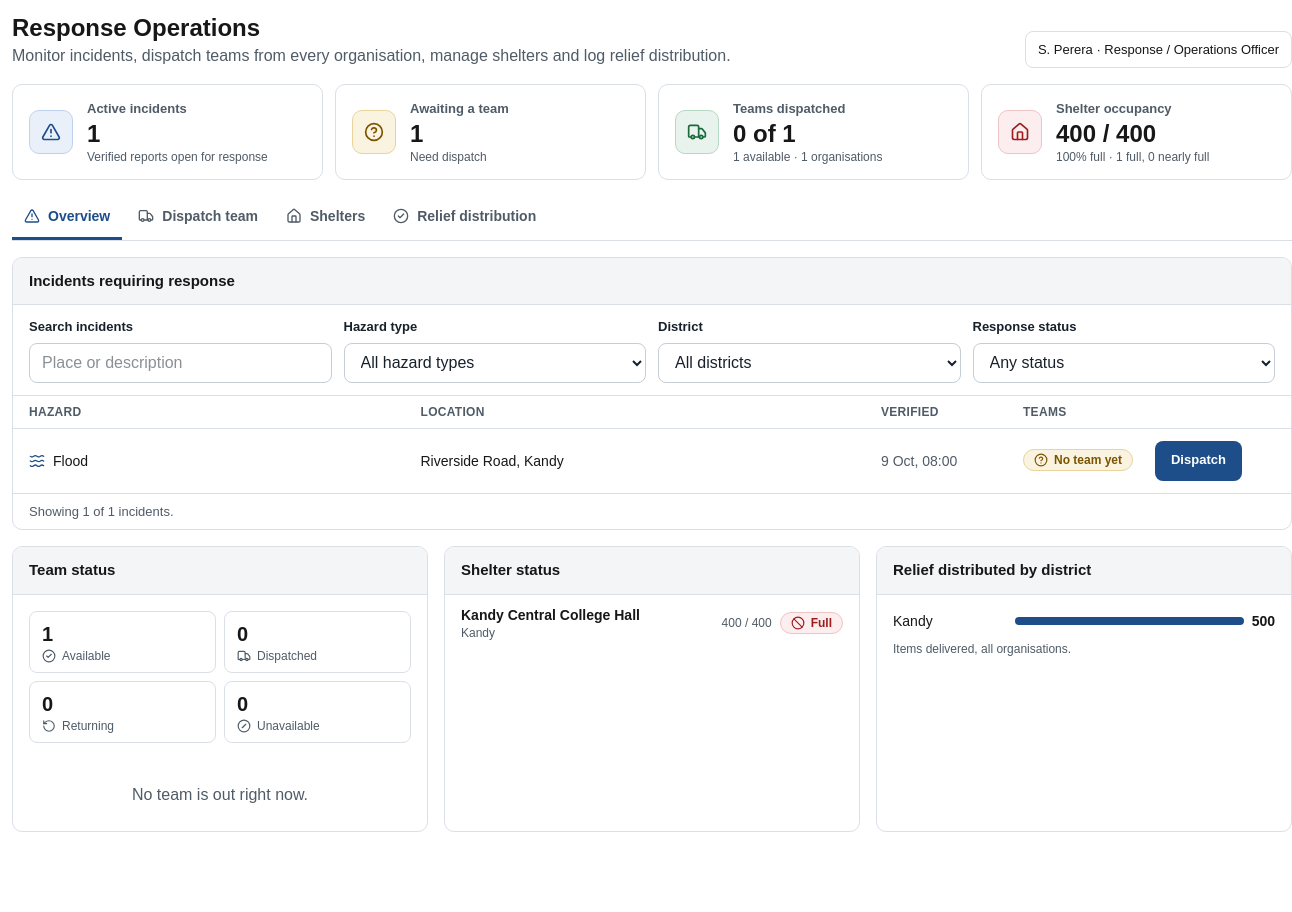
Test: Shelters tab › blocks evacuees being sent to a full shelter before any request
The width and height of the screenshot is (1292, 912).
Check: the text "Active incidents" is shown, box left=87, top=101, right=187, bottom=116
Click the tab "Shelters" at (326,218), box left=274, top=196, right=377, bottom=240
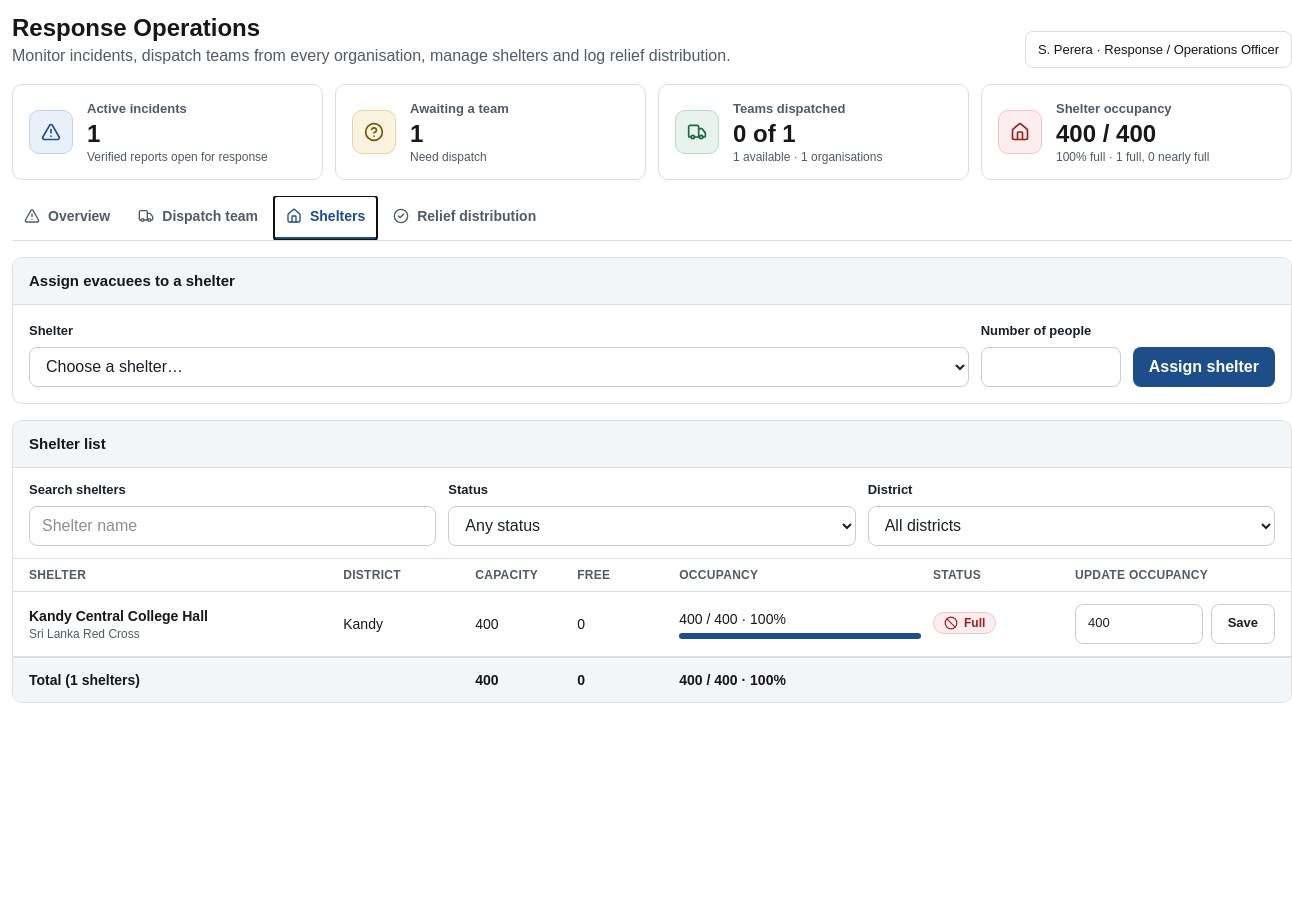
Select "Kandy Central College Hall — 0 places left" in the dropdown labelled "Shelter" at (499,366), box left=29, top=346, right=969, bottom=386
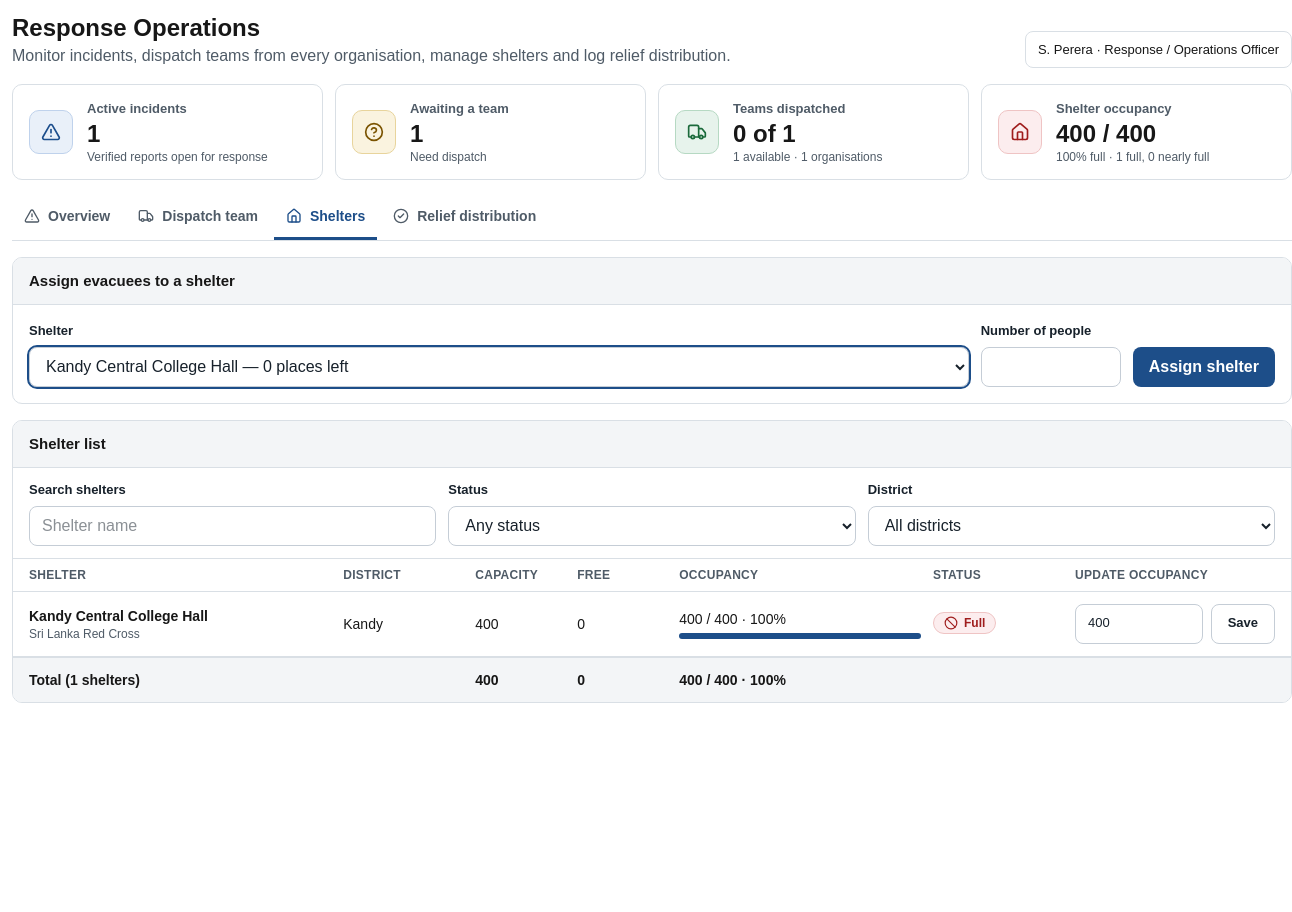
Type "1" into the number field labelled "Number of people" at (1051,366), box left=981, top=346, right=1121, bottom=386
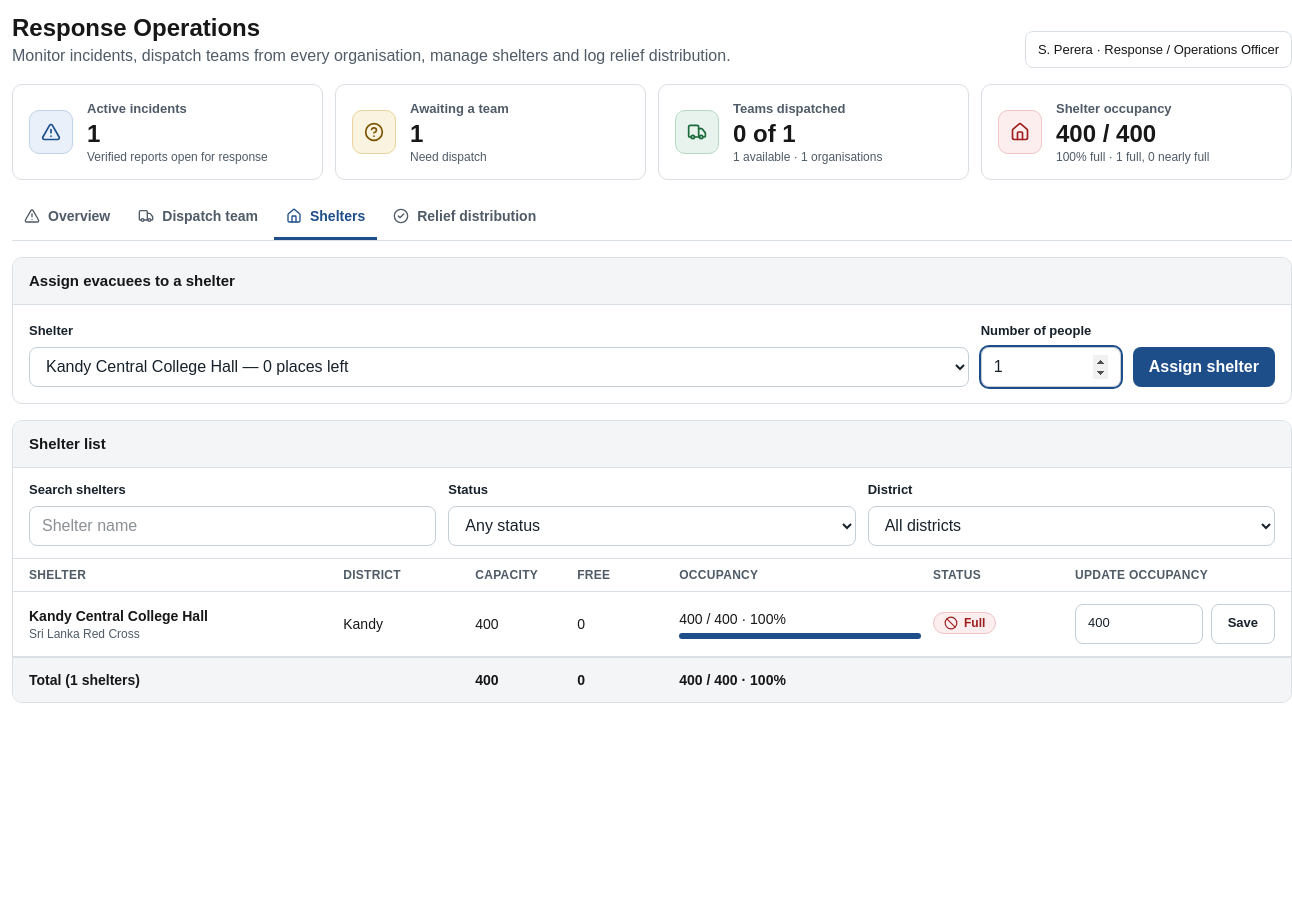
Click the button "Assign shelter" at (1204,366), box left=1133, top=346, right=1275, bottom=386
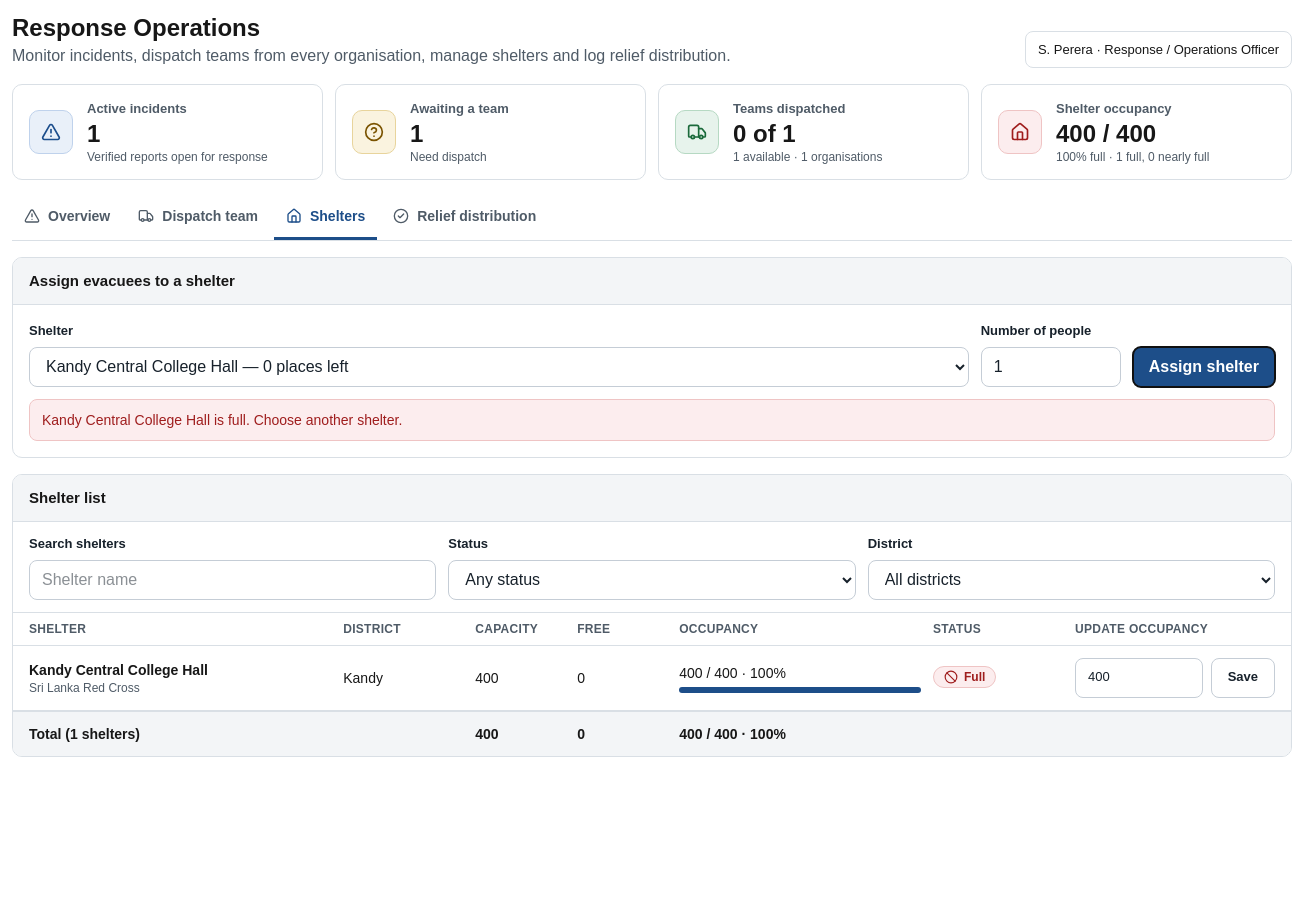
Check: the text "Kandy Central College Hall is full. Choose another shelter." is shown, box left=42, top=412, right=402, bottom=428
